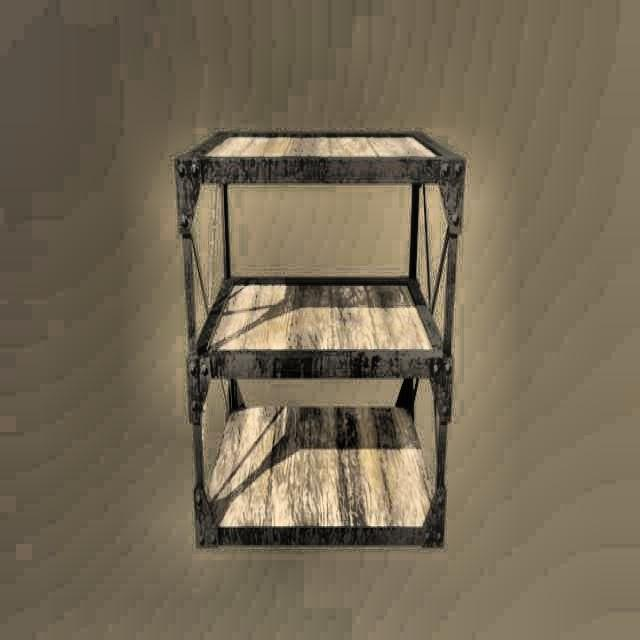mesa: (174, 129, 464, 547)
